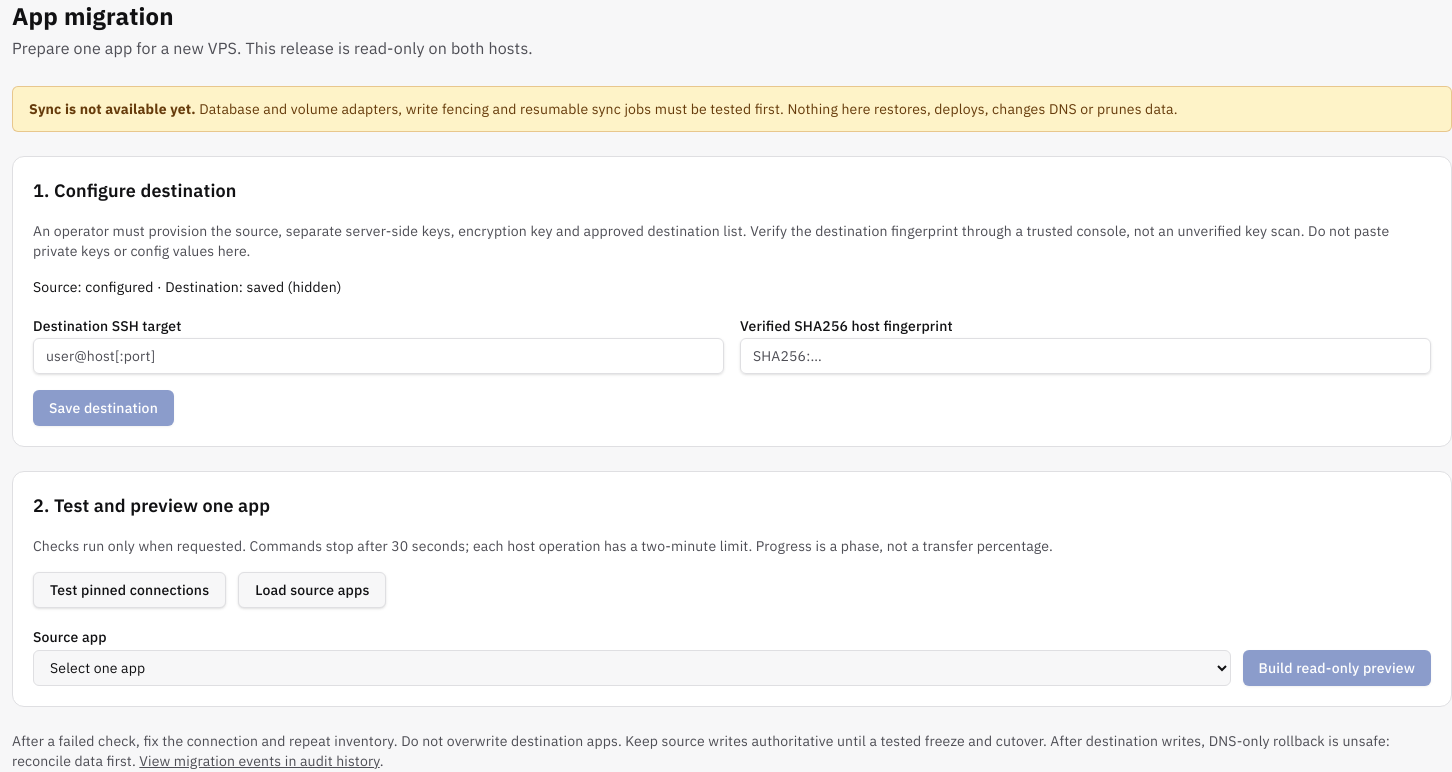
Test case: migration planning UI › selects one app and shows a blocked sanitized preview
This screenshot has width=1452, height=772.
Expected: the text "Source: configured · Destination: saved (hidden)" is shown, [33,278,342,296]
Click the button "Load source apps". click: (312, 590)
box: [238,572,386,608]
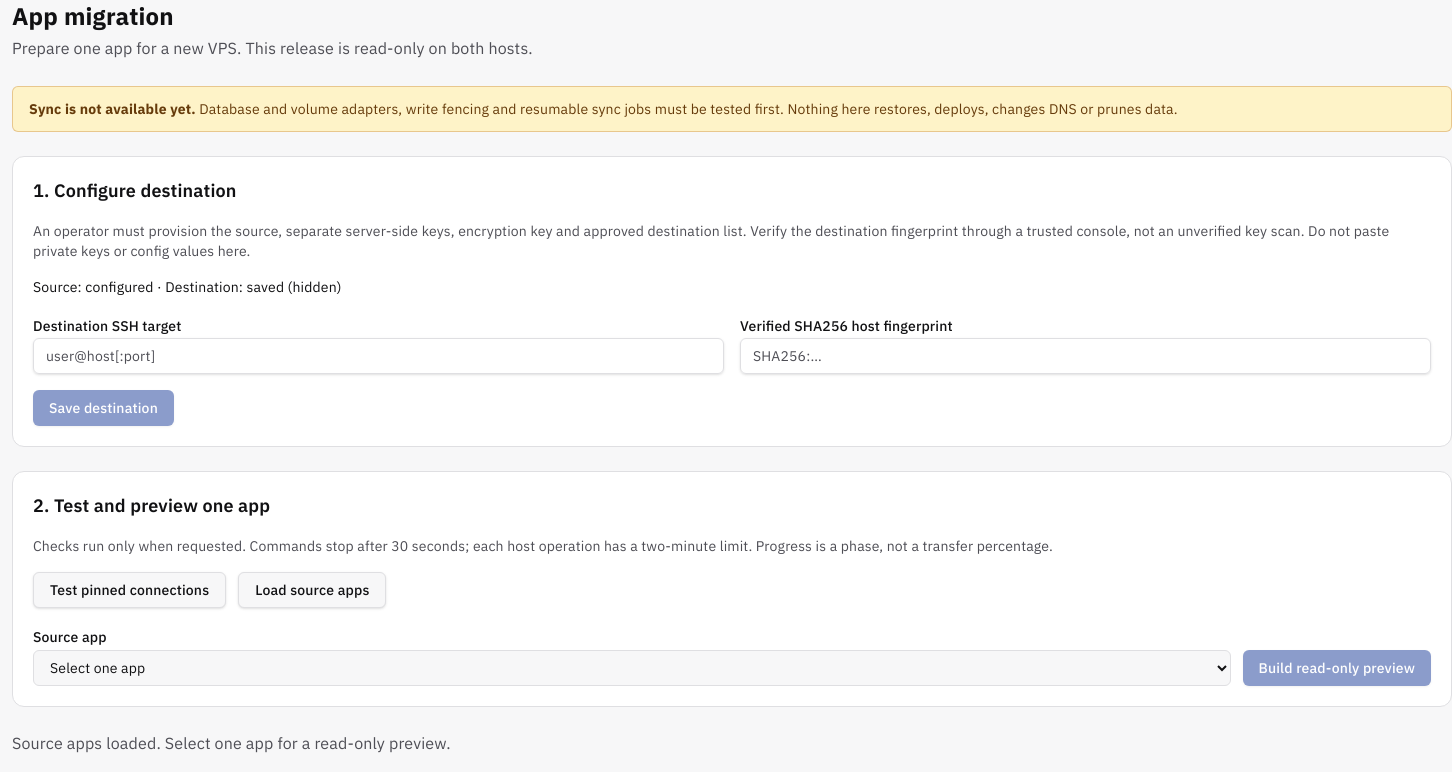
Expected: the text "Source apps loaded. Select one app for a read-only preview." is shown, [12,733,451,753]
Select "pilot" in the dropdown labelled "Source app". click: (632, 668)
box: [33,650,1230,686]
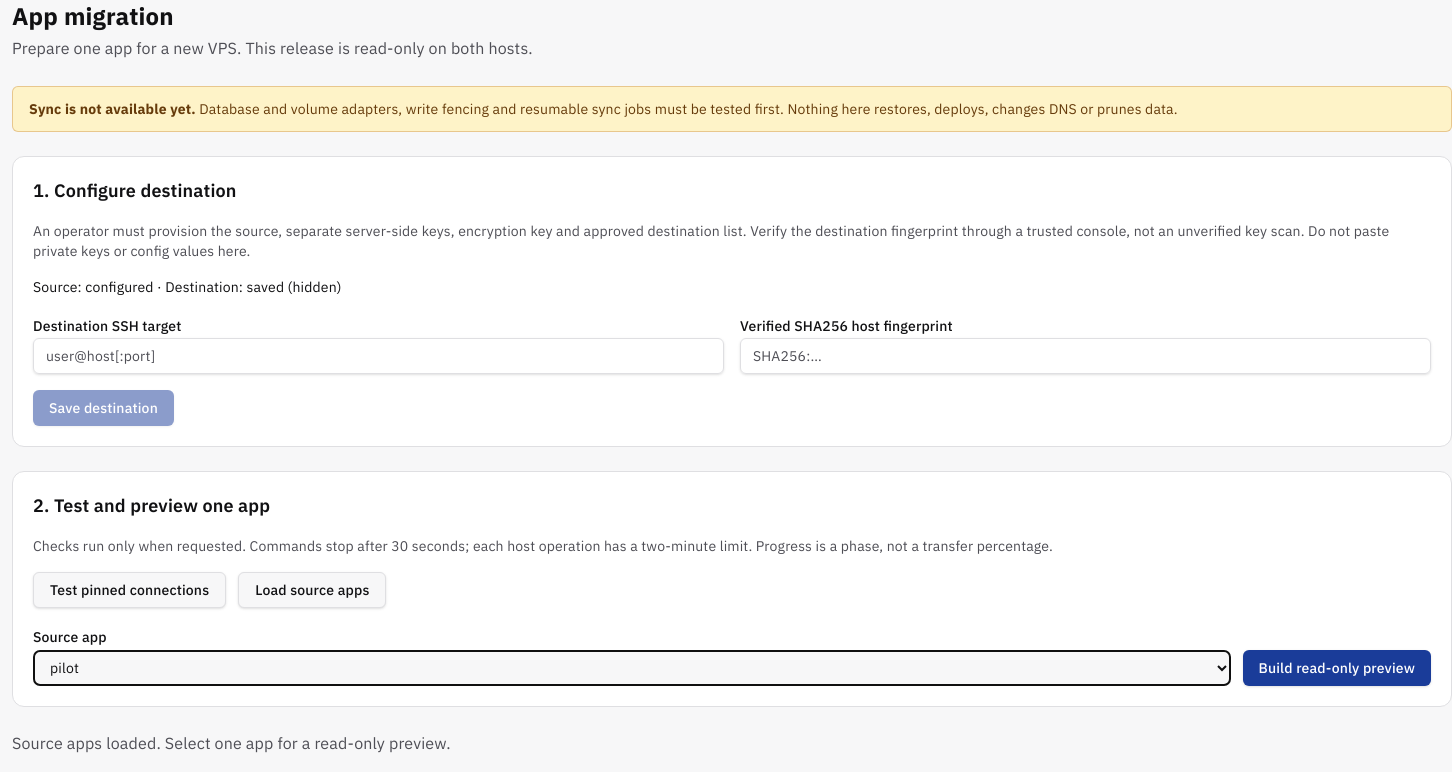
Click the button "Build read-only preview". click: (1337, 668)
box: [1242,650,1431,686]
(page scrolled)
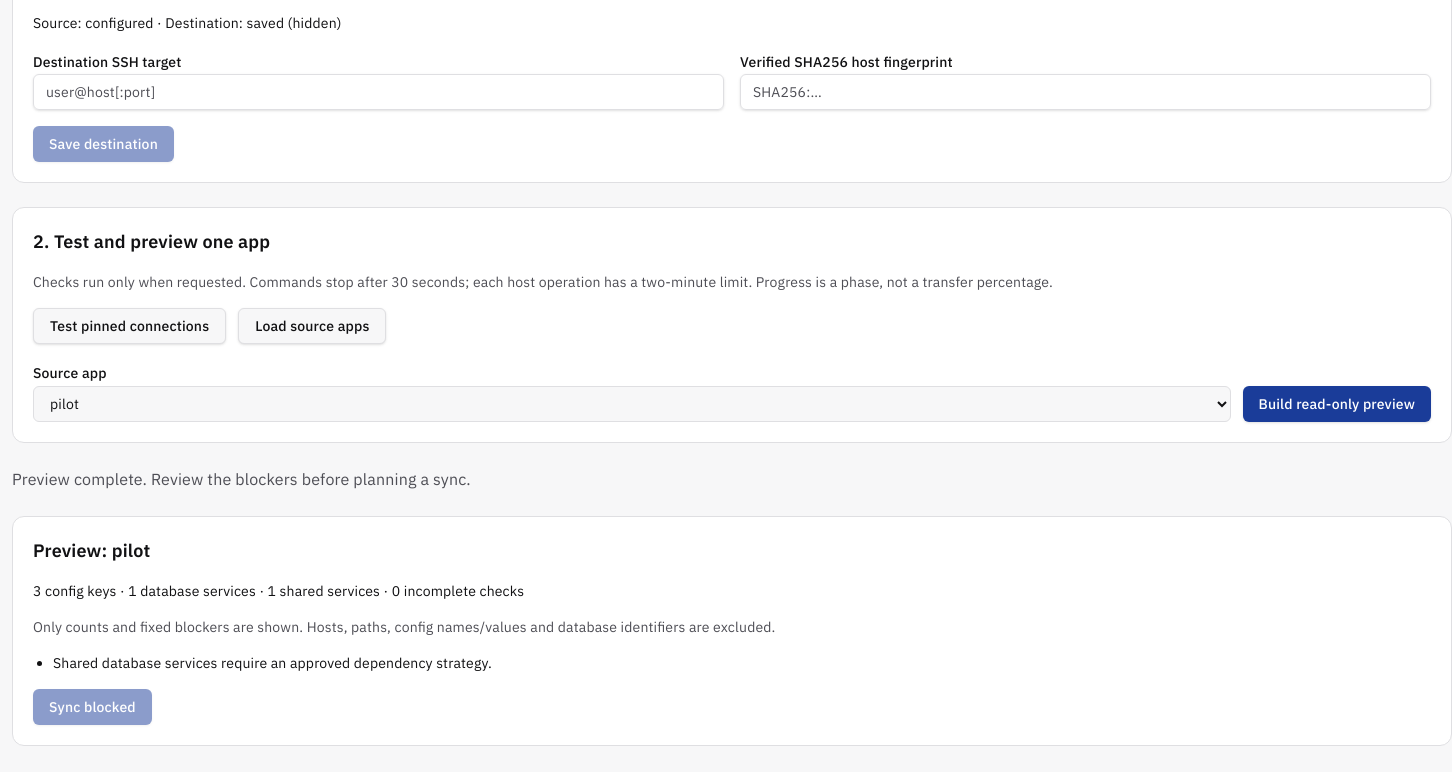
Expected: the heading "Preview: pilot" is shown, [33,539,150,562]
Expected: the button "Sync blocked" is disabled, [33,689,152,725]
Expected: the text "3 config keys" is shown, [33,582,524,600]
